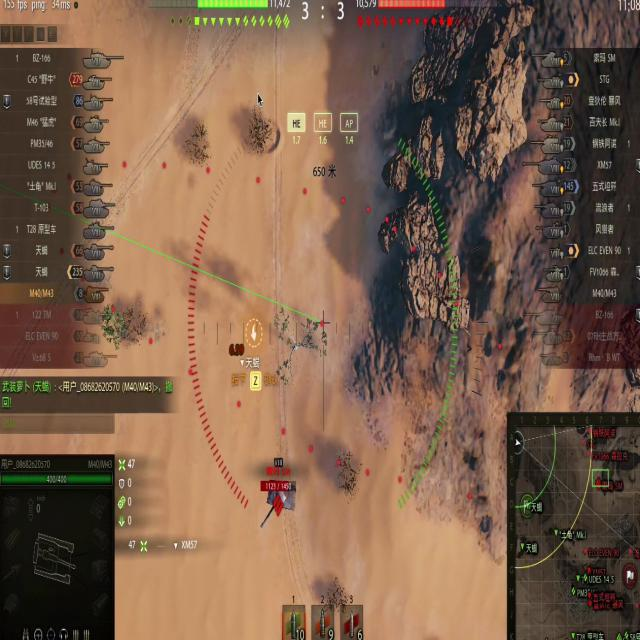tank: (258, 477, 304, 529)
